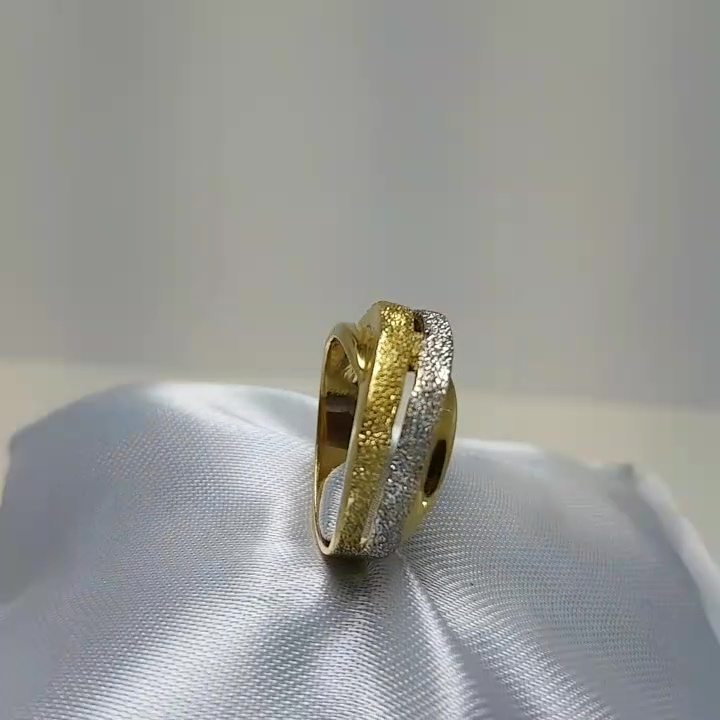Ring 5: (274, 283, 498, 580)
